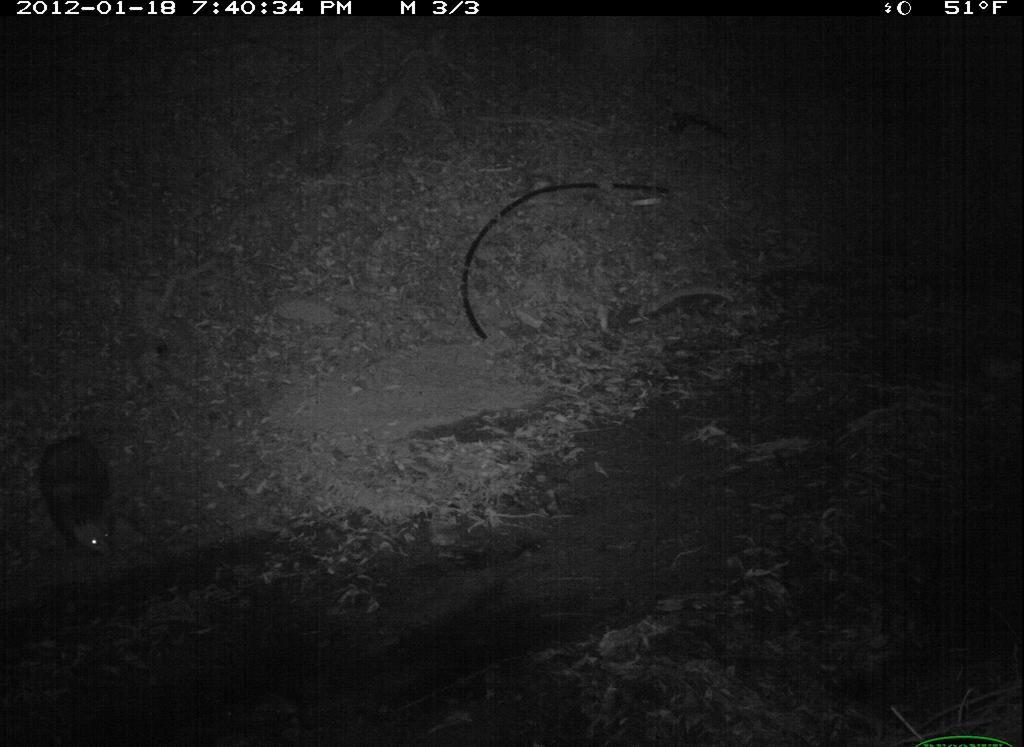opossum: (34, 427, 141, 575)
